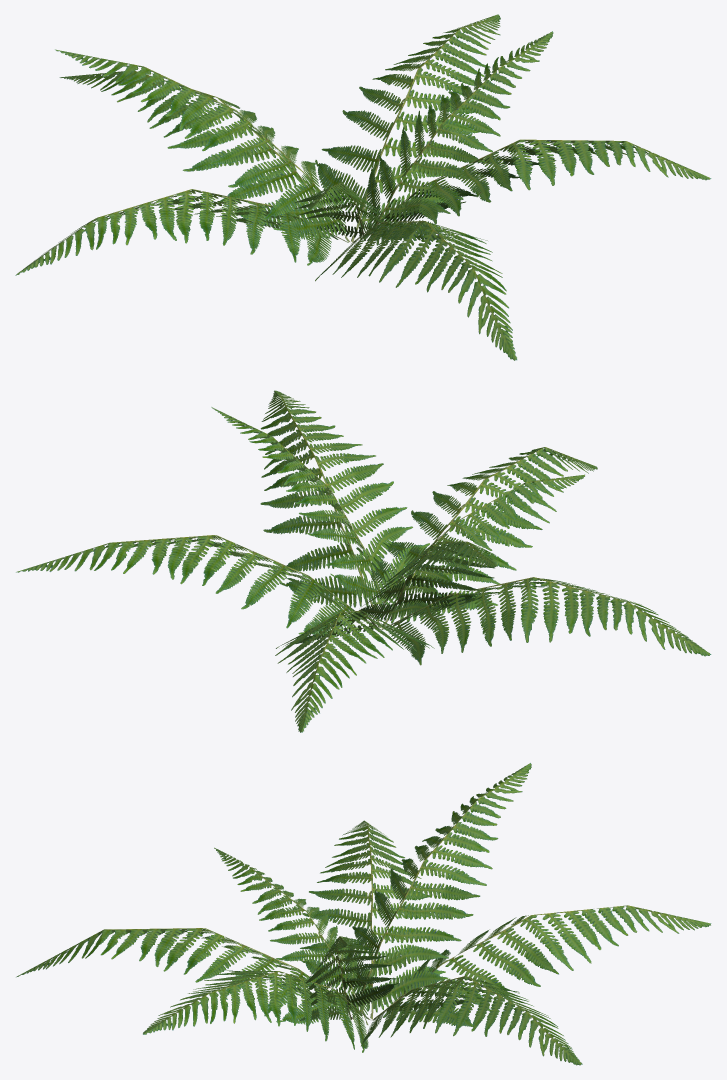
The model's file is Fern-02.fbx.
3 renders of one model, top to bottom at view 1: azimuth 30°, elevation 25°; view 2: azimuth 150°, elevation 25°; view 3: azimuth 270°, elevation 25°, orthographic. The views are drawn at different scales.
Visible parts, largest first — view 1: Fern-01; view 2: Fern-01; view 3: Fern-01.
Part boxes in pixels (x1,y1,x2,y2): Fern-01: [15, 14, 711, 360]; Fern-01: [16, 390, 711, 732]; Fern-01: [16, 763, 711, 1065].
Size of the model in its own units: 204 by 58.4 by 224.
